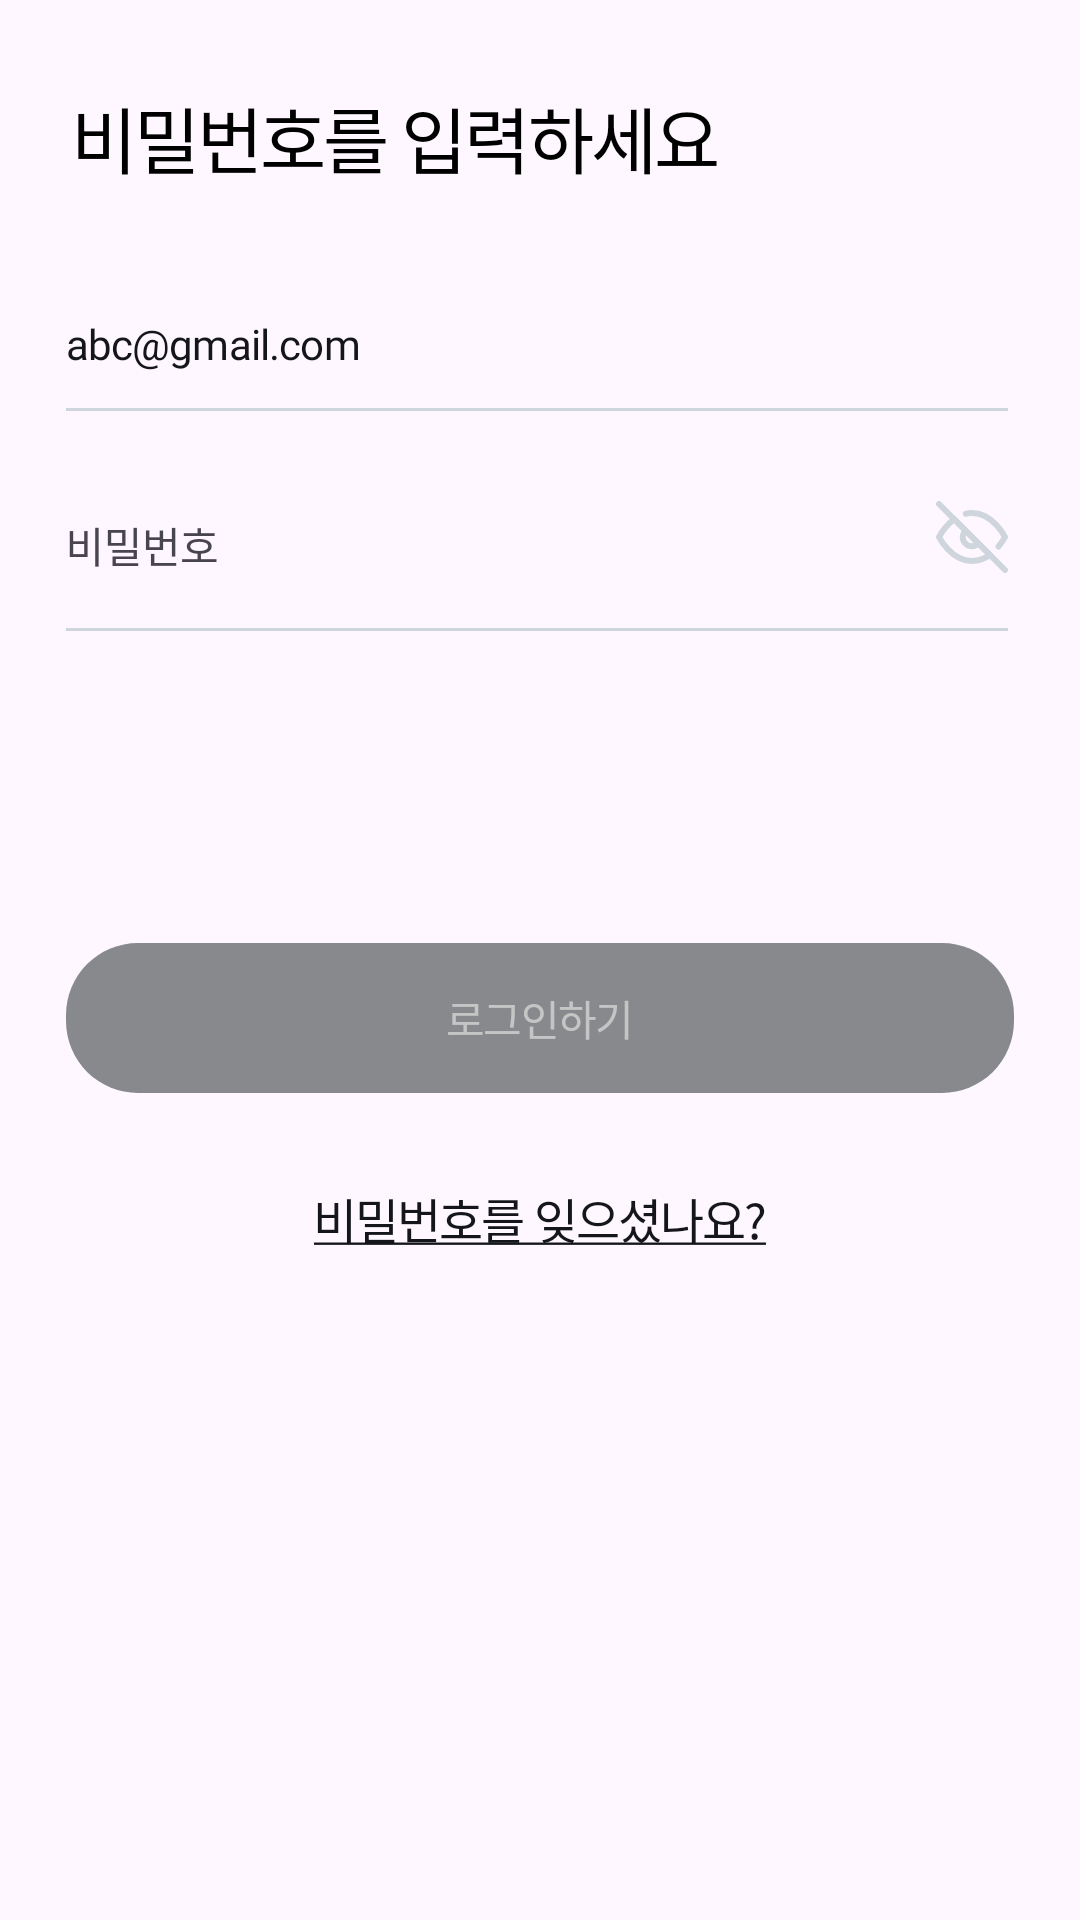

Icons on this 1080w x 1920h Android screen, each with its box as box(x1, y1, x2, y2):
eye off: box(936, 501, 1008, 573)
